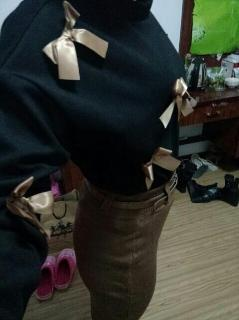long sleeve top: (0, 0, 185, 318)
skirt: (73, 170, 179, 319)
